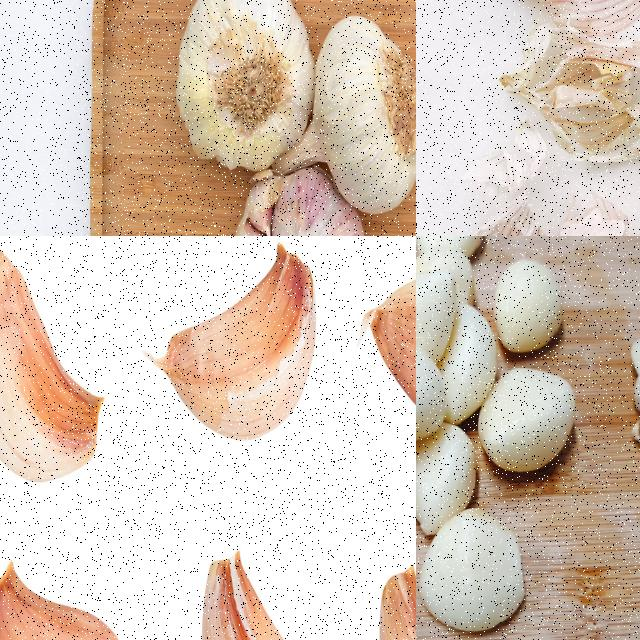garlic: (416, 236, 578, 639), (146, 243, 316, 440), (0, 243, 105, 486), (173, 0, 317, 177), (312, 12, 415, 219), (198, 545, 331, 639), (0, 554, 143, 639), (365, 269, 415, 472), (230, 168, 367, 235)
